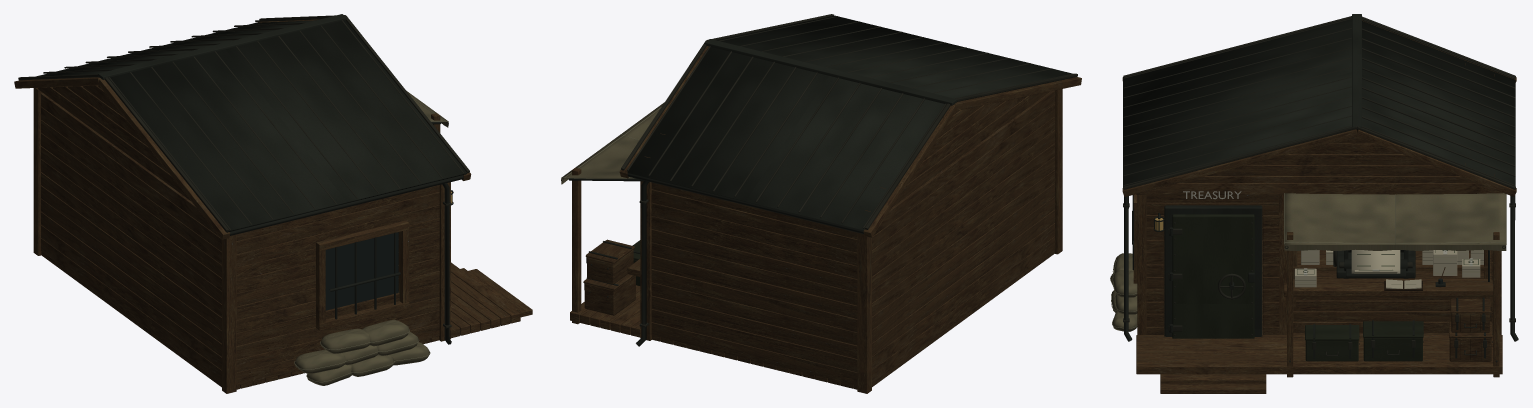
File: treasury.glb
3 renders of one model, left to right at view 1: azimuth 30°, elevation 25°; view 2: azimuth 150°, elevation 25°; view 3: azimuth 270°, elevation 25°, orthographic. The views are drawn at different scales.
Parts seen in each view (by area): view 1: Treasury Weathered timber; view 2: Treasury Weathered timber; view 3: Treasury Weathered timber.
Part boxes in pixels (bbox=[...]): Treasury Weathered timber: bbox=[14, 14, 532, 393]; Treasury Weathered timber: bbox=[561, 14, 1081, 393]; Treasury Weathered timber: bbox=[1110, 14, 1518, 393].
Bounding box in the file's own units: 1.51 × 1.06 × 1.71.
14 materials, 8 textured.
